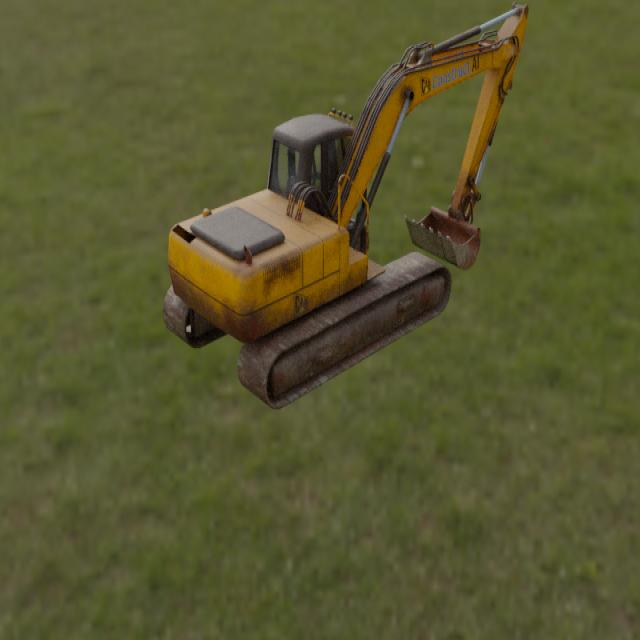excavator: (162, 2, 529, 410)
